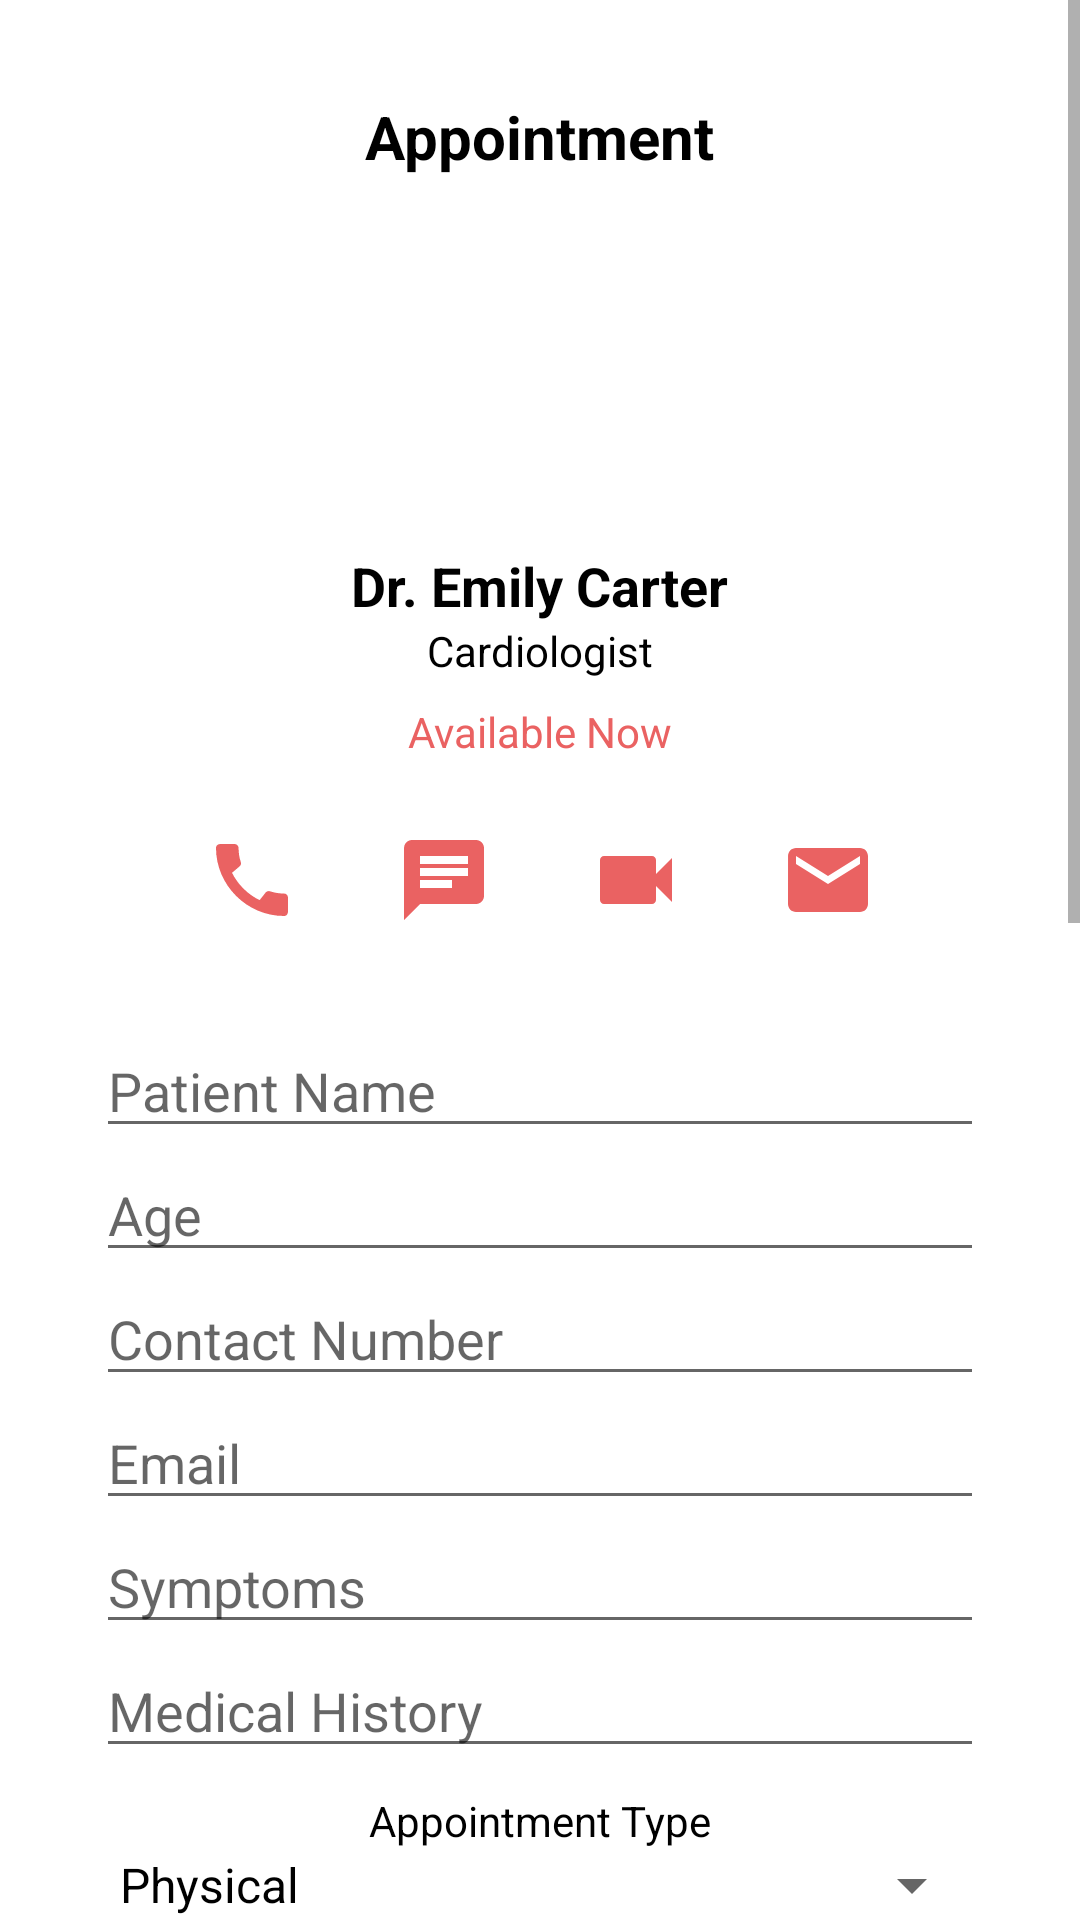

Where icons sit on this 1080×1920 app screen, as {"left": x1, "top": y1, "right": x2, "bottom": y2}:
Call: {"left": 216, "top": 844, "right": 288, "bottom": 916}
Chat: {"left": 404, "top": 840, "right": 484, "bottom": 920}
Mail: {"left": 788, "top": 848, "right": 868, "bottom": 912}
Video Call: {"left": 600, "top": 856, "right": 672, "bottom": 904}
